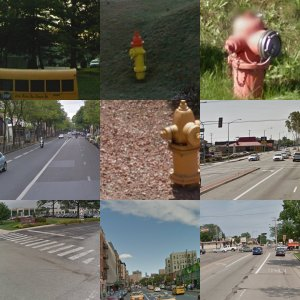汽車: (256, 249, 284, 268), (8, 163, 35, 181), (131, 81, 160, 95), (223, 56, 253, 68), (27, 71, 47, 85), (273, 157, 289, 173), (175, 83, 191, 96)
腳踏車: (133, 140, 186, 192), (121, 226, 153, 258), (46, 212, 68, 257)
